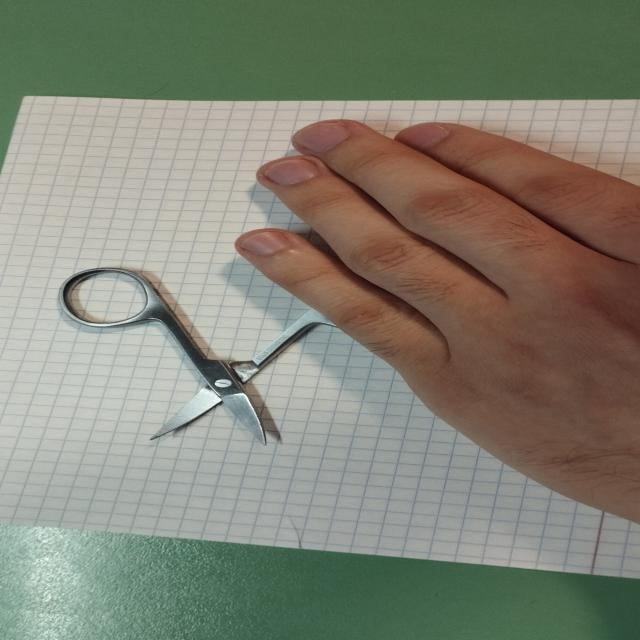tesoura: (57, 261, 423, 446)
